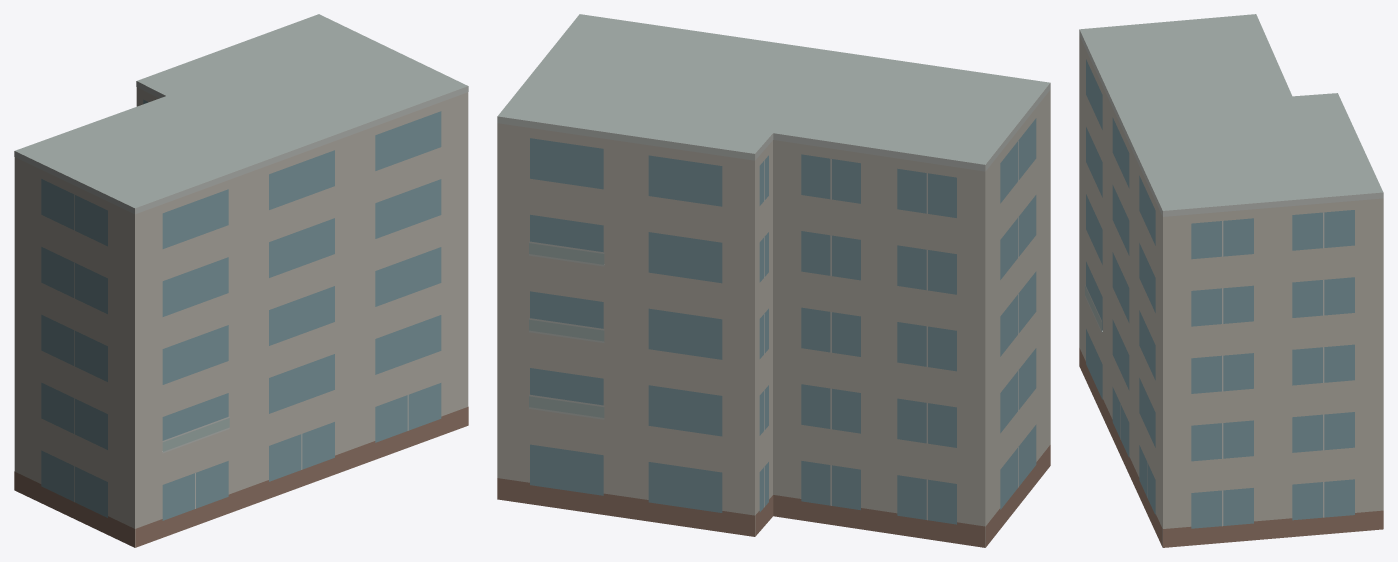
The model's file is survey-upis-32750346.glb.
3 views of the same model, side by side, from view 1: azimuth 30°, elevation 25°; view 2: azimuth 150°, elevation 25°; view 3: azimuth 270°, elevation 25° (orthographic). The views are drawn at different scales.
Parts seen in each view (by area): view 1: survey-upis-32750346.tmp; view 2: survey-upis-32750346.tmp; view 3: survey-upis-32750346.tmp.
Boxes of the visible parts, x1,y1,x2,y2 form: survey-upis-32750346.tmp: (14,14,468,547); survey-upis-32750346.tmp: (497,14,1050,547); survey-upis-32750346.tmp: (1079,14,1383,547).
Bounding box in the file's own units: 17.32 × 13.8 × 11.3.
